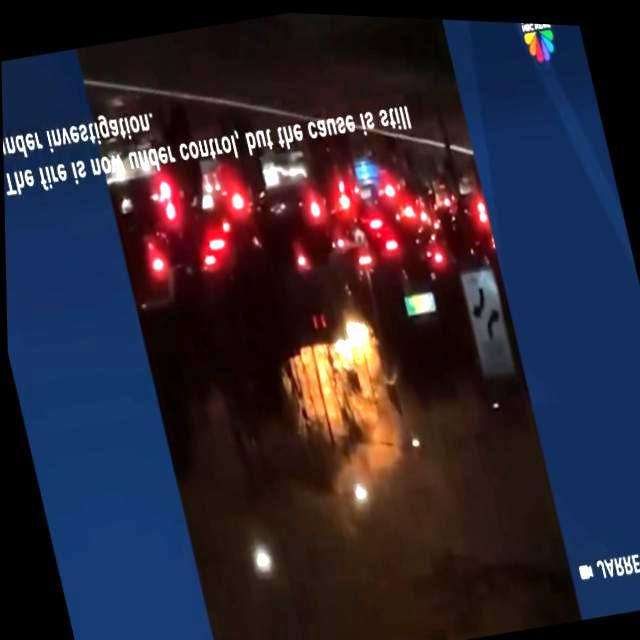fire: (320, 314, 388, 371)
